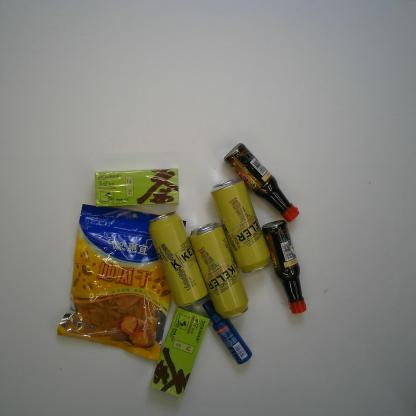Alcohol: (210, 177, 272, 274), (189, 222, 249, 319), (148, 211, 208, 308)
Dried Fruit: (56, 203, 187, 361)
Instant Drink: (148, 307, 210, 400), (94, 168, 180, 207)
Personal Hygiene: (202, 299, 253, 365)
Seasoner: (223, 142, 300, 223), (262, 220, 308, 314)
